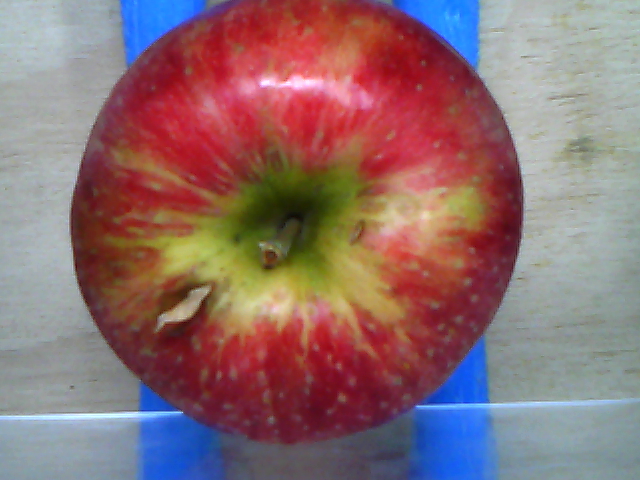stem: (258, 212, 296, 266)
